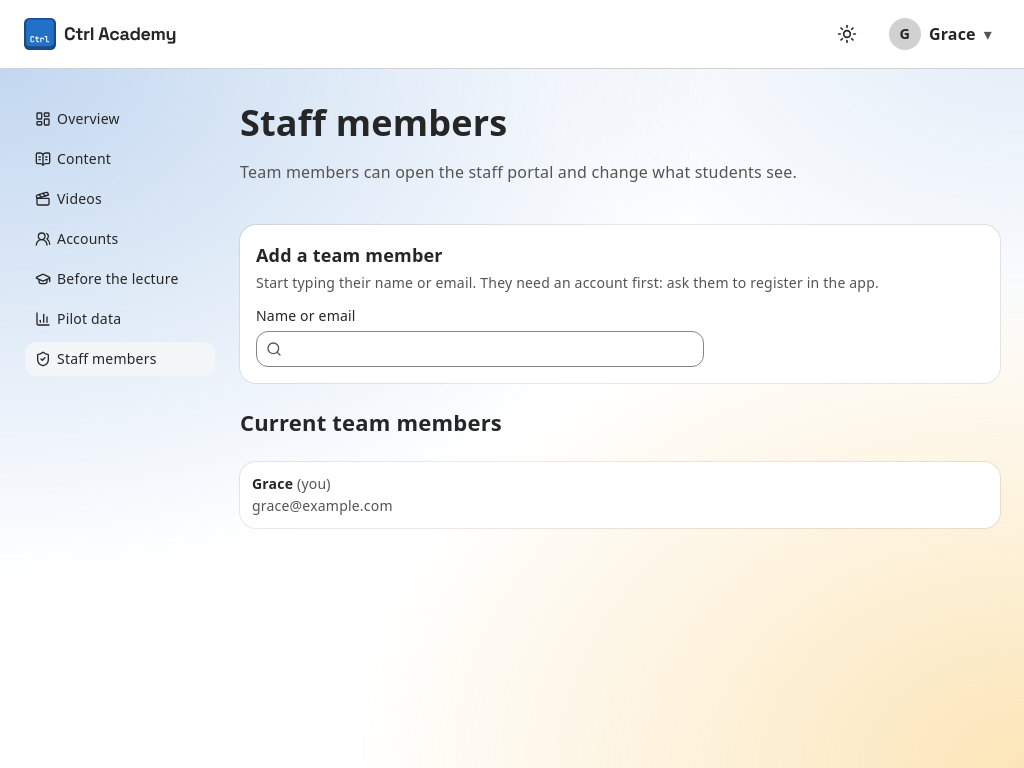
staff members page › narrows the accounts as you type, then makes the chosen one staff
Type "a" into the search field labelled "Name or email" at point(480, 349), box x1=256 y1=331 x2=704 y2=367
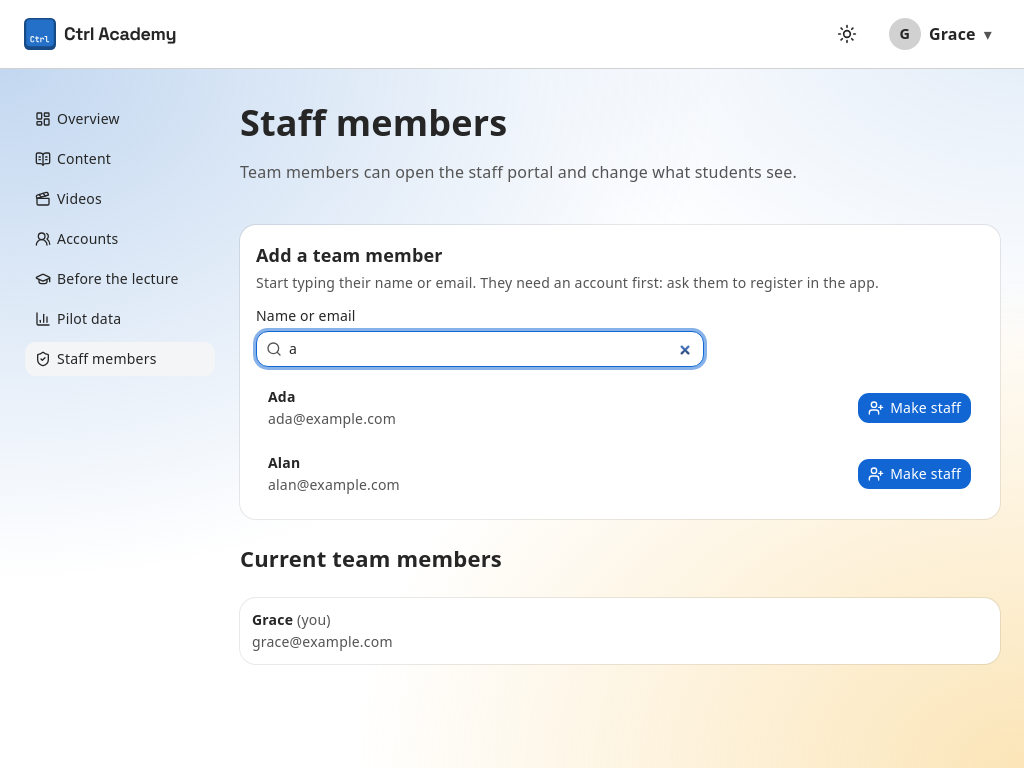
Type "da" into the search field labelled "Name or email" at point(480, 349), box x1=256 y1=331 x2=704 y2=367
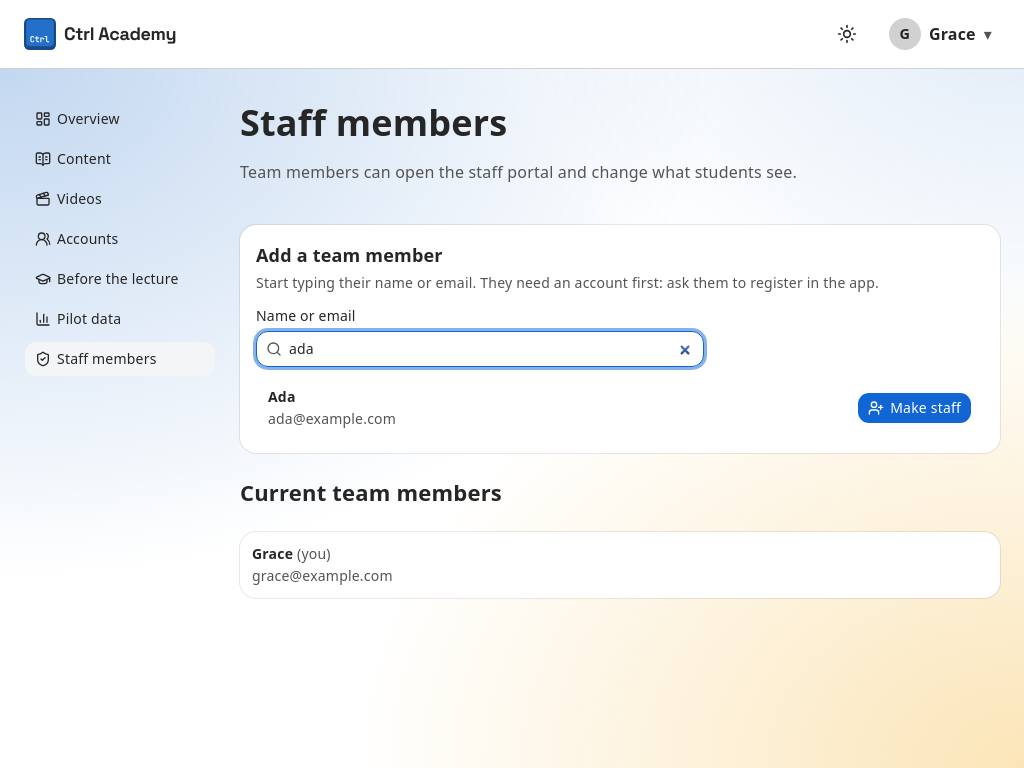
Click the button with aria-label "Make Ada staff" at point(915, 408), box x1=857 y1=392 x2=972 y2=424
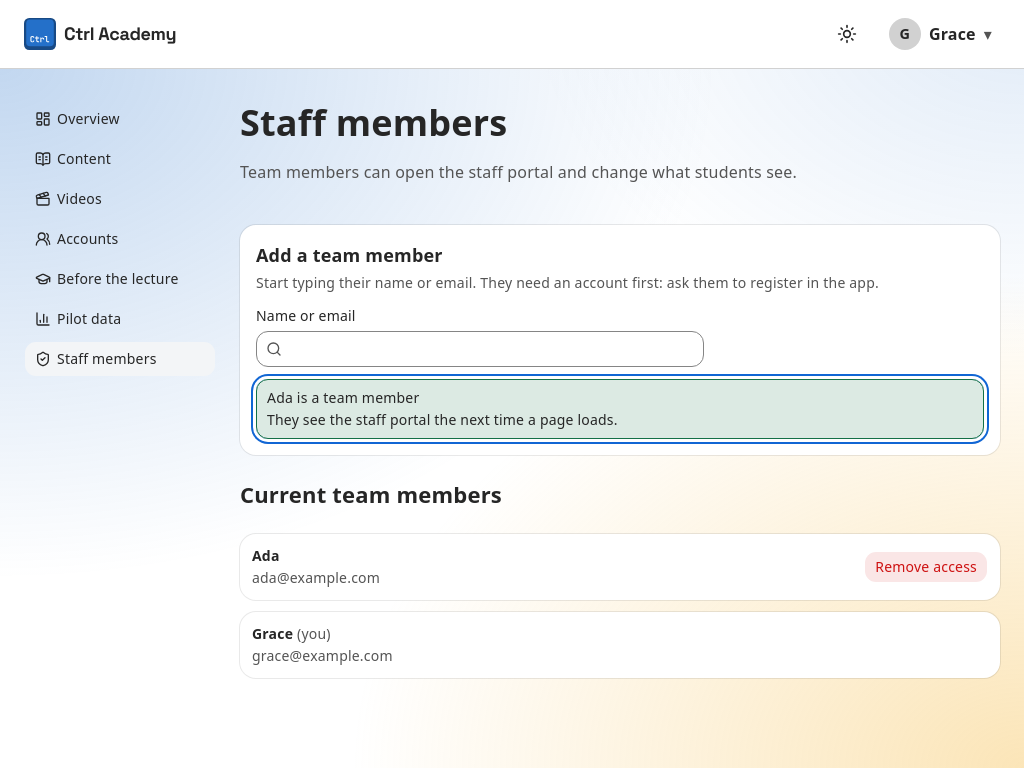
Result: the text "ada@example.com" is shown at x1=252 y1=568 x2=380 y2=588
Result: the text "Ada is a team member" is shown at x1=267 y1=388 x2=419 y2=407
Result: the search field labelled "Name or email" is empty at x1=256 y1=331 x2=704 y2=367
